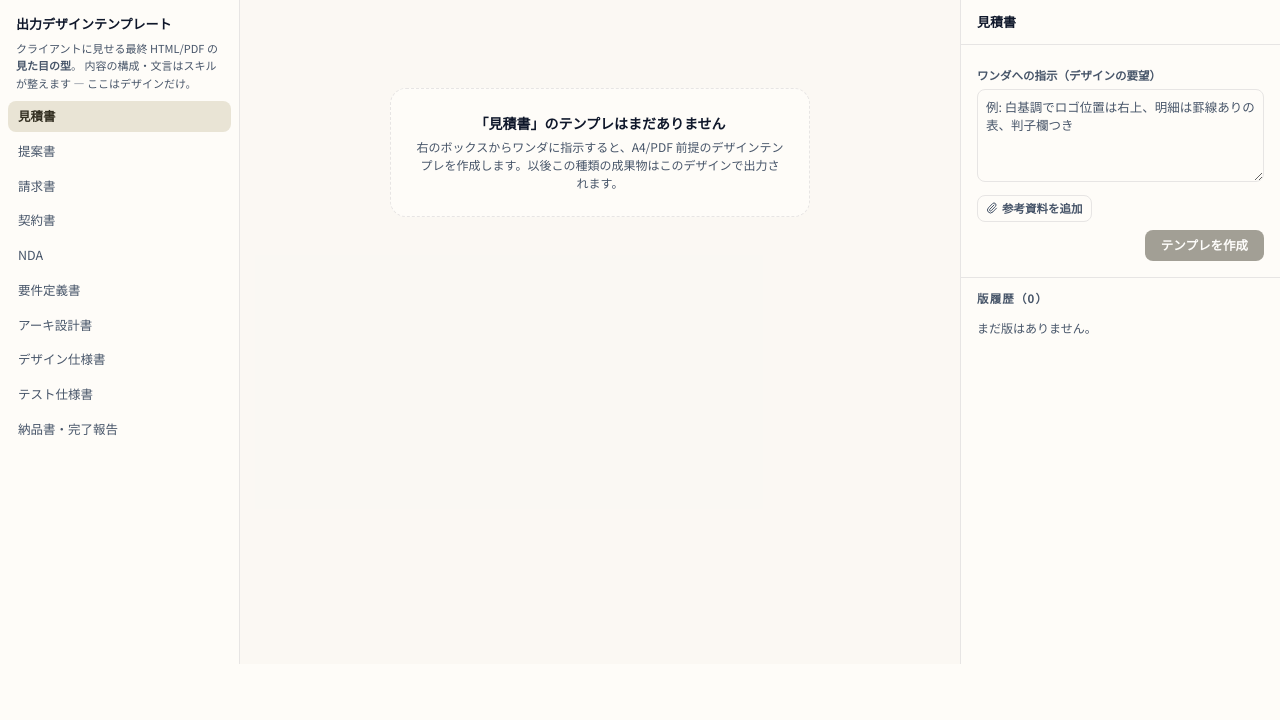
Scenario: DesignTemplateStudio (GAP-158) › 指示を送ると POST /workspaces/{id}/design-templates/{stage} が呼ばれ、作成通知が出る
The width and height of the screenshot is (1280, 720).
Type "白基調でロゴ右上、明細は罫線ありの表" into the text box labelled "ワンダへの指示（デザインの要望）" at [1120, 135], box [977,88,1264,182]
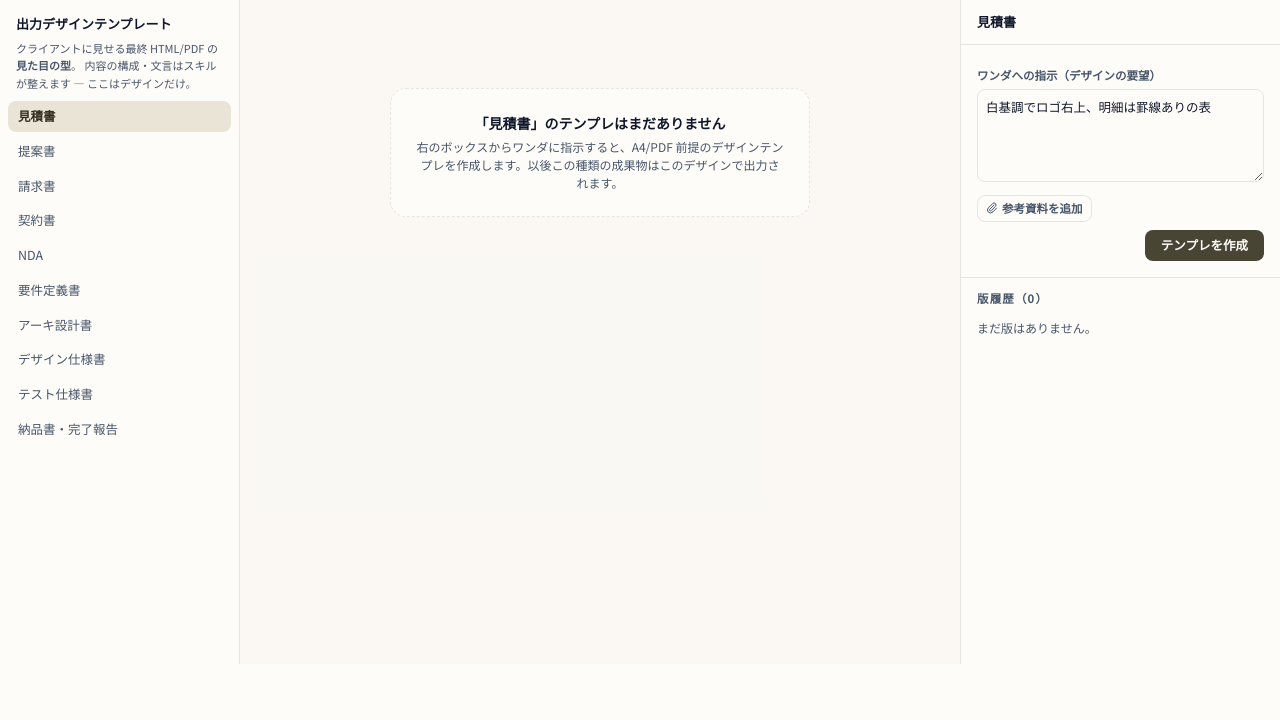
Click the button "テンプレを作成" at [1204, 245], box [1145,230,1264,261]
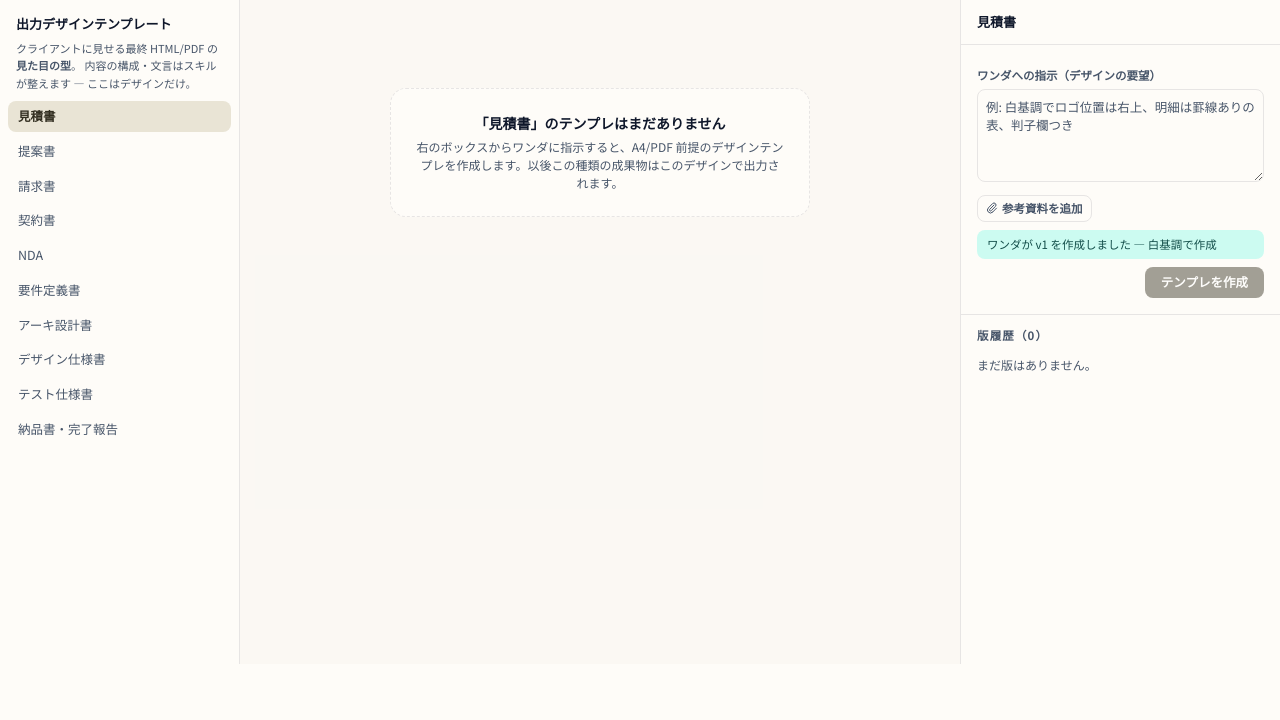
Expected: the message reads "ワンダが v1 を作成しました — 白基調で作成", [987,236,1217,252]
